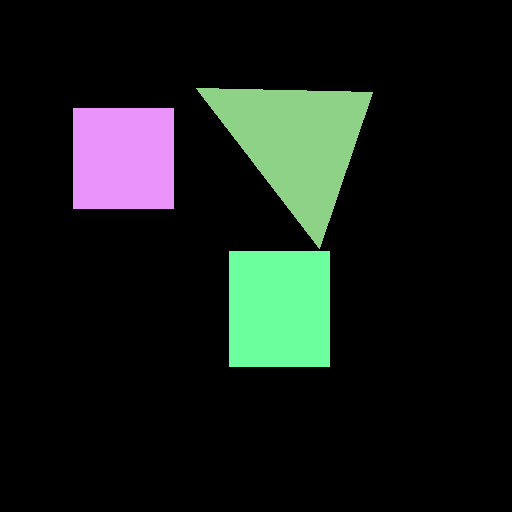rectangle: (229, 251, 329, 366)
square: (73, 108, 173, 208)
triangle: (196, 88, 372, 248)
